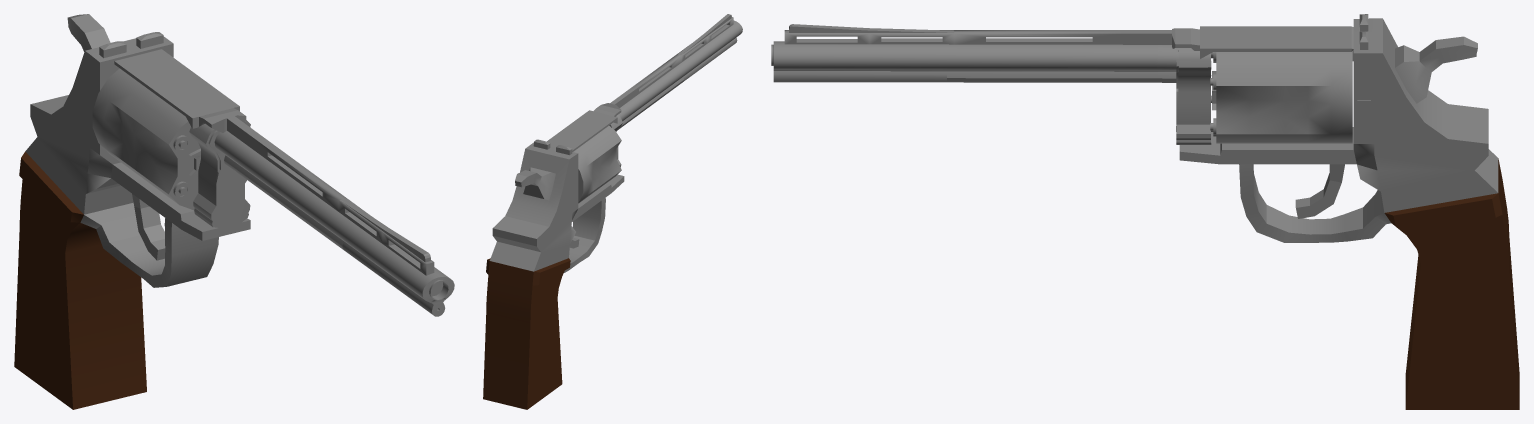
Rendered from Shotgun18F.glb.
The picture shows the model from 3 angles, left to right: view 1: azimuth 30°, elevation 25°; view 2: azimuth 150°, elevation 25°; view 3: azimuth 270°, elevation 25°; orthographic projection. The views are drawn at different scales.
Visible parts, largest first — view 1: Shotgun18F_Tris; view 2: Shotgun18F_Tris; view 3: Shotgun18F_Tris.
Boxes of the visible parts, x1,y1,x2,y2 form: Shotgun18F_Tris: (14,14,454,409); Shotgun18F_Tris: (483,14,742,409); Shotgun18F_Tris: (771,14,1519,409).
Size of the model in its own units: 0.0361 by 0.1396 by 0.2578.
